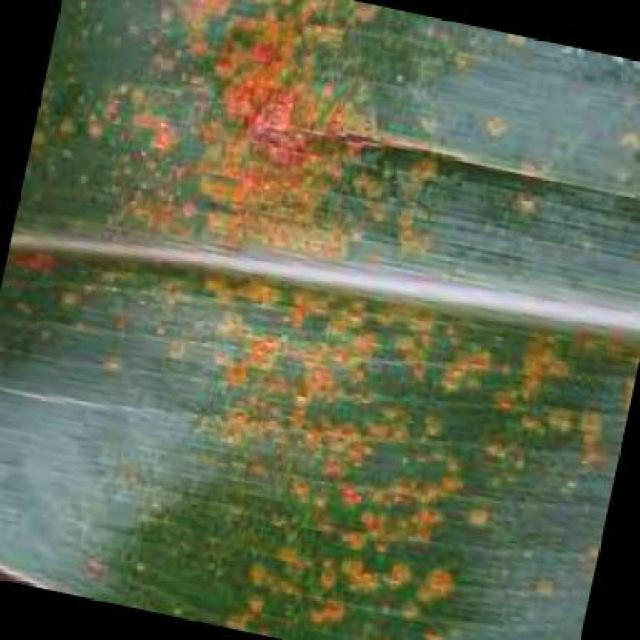Corn_Rust: (80, 52, 583, 596)
